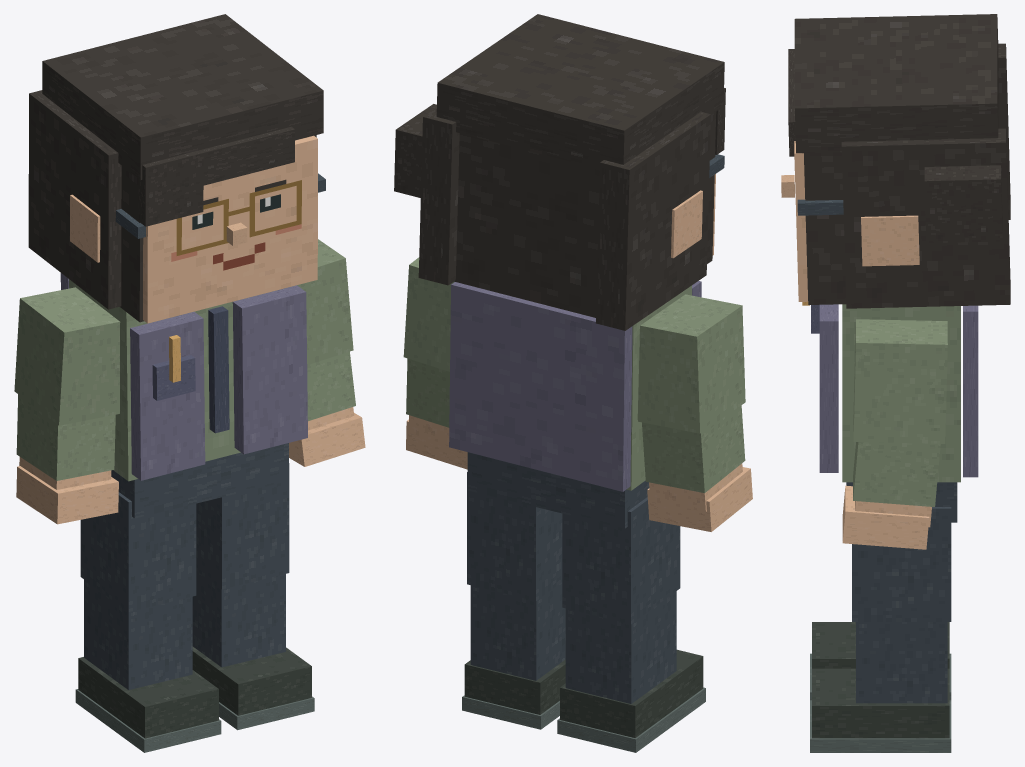
The picture shows the model from 3 angles, left to right: view 1: azimuth 30°, elevation 25°; view 2: azimuth 150°, elevation 25°; view 3: azimuth 270°, elevation 25°; orthographic projection. The views are drawn at different scales.
Parts seen in each view (by area): view 1: hair:bob, outfit:vest, object 6, object 14, object 22, object 23, object 26, object 27, object 1, object 24, object 17, object 28 (+11 smaller); view 2: hair:bob, outfit:vest, object 5, object 14, object 22, object 23, object 26, object 27, object 1, object 17, object 24, object 18 (+10 smaller); view 3: hair:bob, object 18, object 26, object 27, object 28, outfit:vest, object 2, object 5, object 21, object 20, object 8, object 29 (+5 smaller).
Part boxes in pixels (x1,y1,x2,y2): hair:bob: [28, 14, 323, 309]; outfit:vest: [60, 273, 307, 480]; object 6: [143, 135, 317, 323]; object 14: [14, 287, 120, 425]; object 22: [80, 492, 196, 611]; object 23: [84, 579, 192, 690]; object 26: [196, 463, 289, 589]; object 27: [192, 571, 285, 667]; object 1: [111, 443, 288, 518]; object 24: [78, 657, 218, 738]; object 17: [16, 394, 115, 480]; object 28: [192, 646, 311, 715]; hair:bob: [394, 14, 725, 330]; outfit:vest: [449, 281, 701, 491]; object 5: [454, 112, 716, 317]; object 14: [637, 294, 745, 433]; object 22: [562, 497, 680, 624]; object 23: [565, 591, 676, 703]; object 26: [467, 472, 562, 600]; object 27: [470, 582, 565, 680]; object 1: [467, 452, 649, 528]; object 17: [642, 405, 745, 492]; object 24: [560, 649, 703, 737]; object 18: [403, 257, 454, 371]; hair:bob: [788, 14, 1010, 308]; object 18: [853, 319, 947, 443]; object 26: [852, 507, 951, 621]; object 27: [856, 622, 947, 703]; object 28: [812, 668, 949, 738]; outfit:vest: [802, 301, 978, 477]; object 2: [842, 304, 960, 482]; object 5: [803, 152, 846, 304]; object 21: [853, 442, 940, 506]; object 20: [842, 485, 929, 549]; object 8: [861, 215, 919, 266]; object 29: [810, 700, 951, 752].
Bounding box in the file's own units: 0.9468 × 1.88 × 0.6006.
13 materials, 13 textured.
